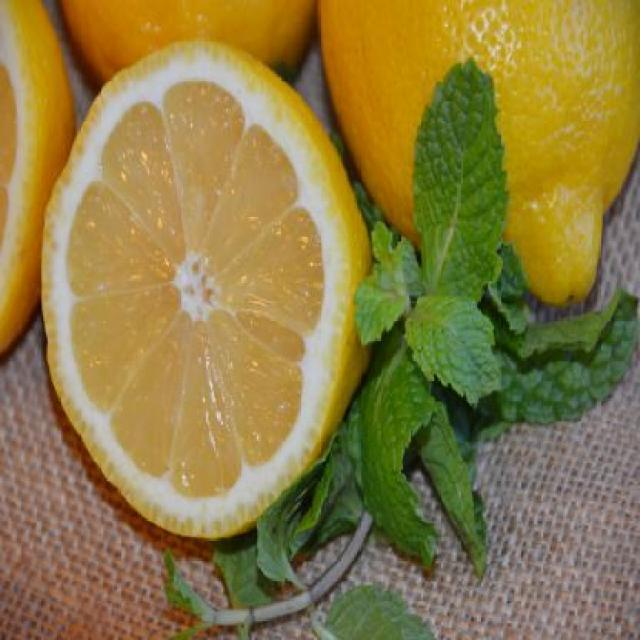Lemon: (44, 31, 364, 554), (319, 0, 638, 300), (0, 6, 74, 352), (66, 2, 311, 87)
